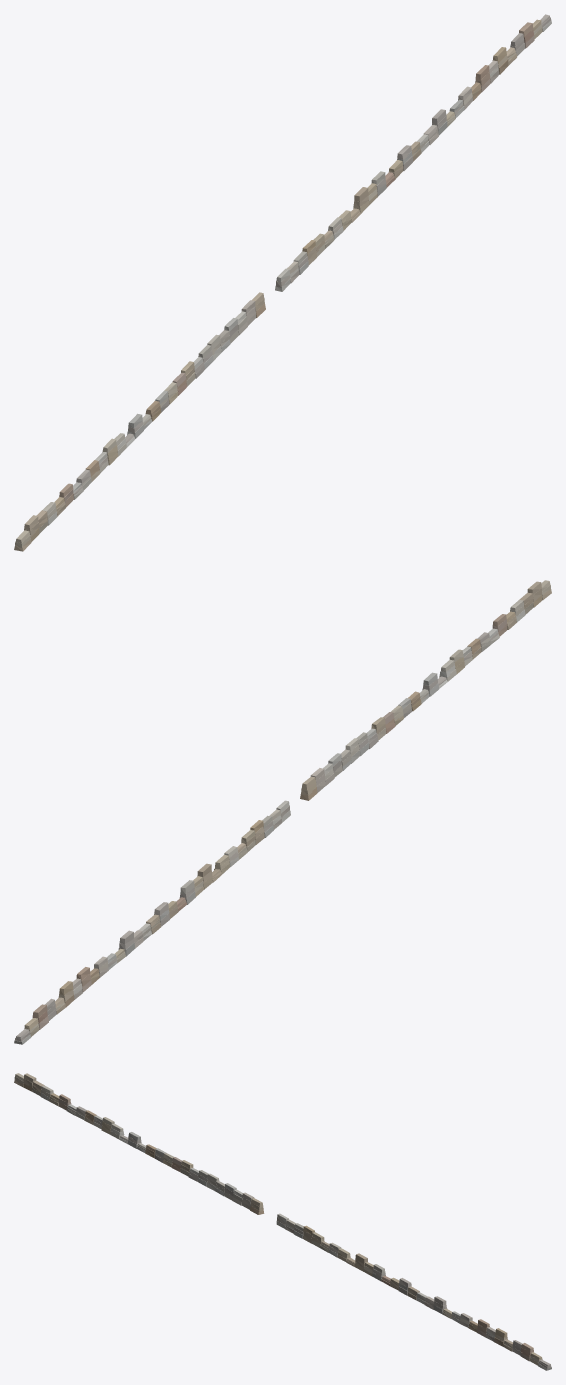
The model's file is farm_-7_7_mid.glb.
The picture shows the model from 3 angles, top to bottom: view 1: azimuth 30°, elevation 25°; view 2: azimuth 210°, elevation 25°; view 3: azimuth 270°, elevation 25°; orthographic projection. The views are drawn at different scales.
Visible parts, largest first — view 1: geometry_0; view 2: geometry_0; view 3: geometry_0.
Part boxes in pixels (box(x1,y1,x2,y2)): geometry_0: box(14, 14, 551, 551); geometry_0: box(14, 580, 551, 1044); geometry_0: box(14, 1073, 551, 1370).
Bounding box in the file's own units: 78.97 × 4.52 × 56.58.
